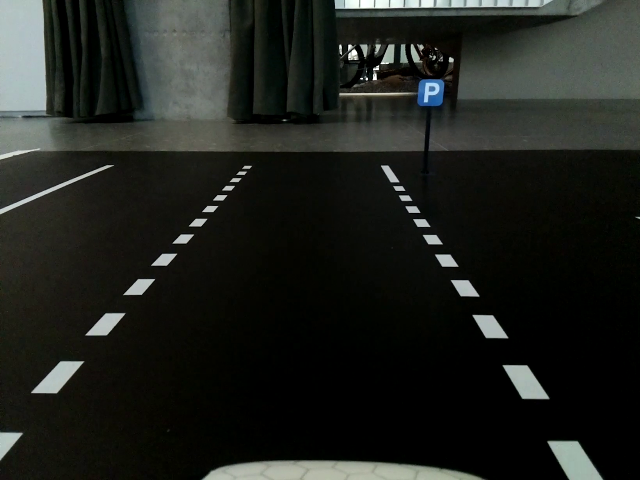park: (418, 79, 444, 106)
